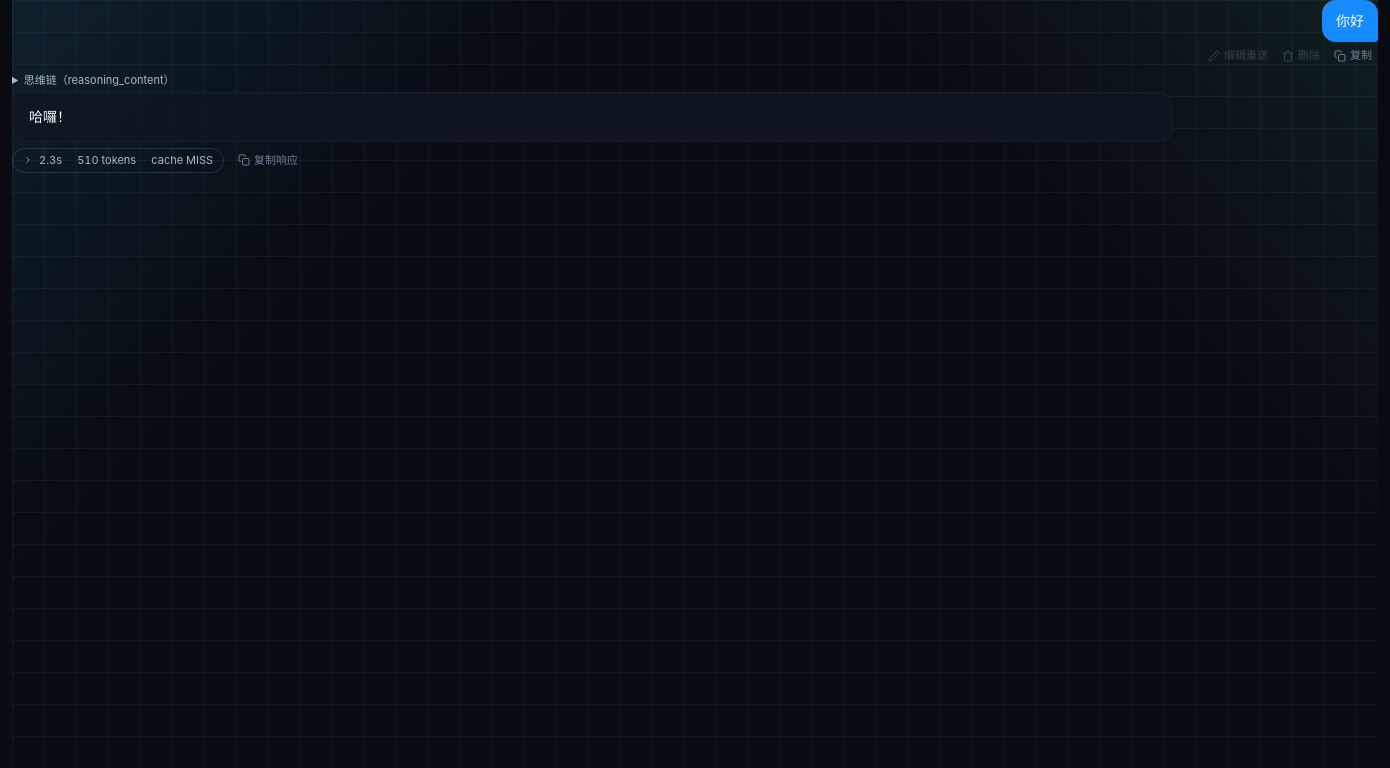
Test: MessageBubble（assistant debug 收起/展开） › cache MISS + prompt<1024 → 显示未达门槛提示
Expected: the text "cache MISS" is shown, [151,152,213,169]
What coordinates should you click on to do the following:
click the button with aria-label "debug"
I would click on:
 (118, 160)
Its box is [12,148,224,173].
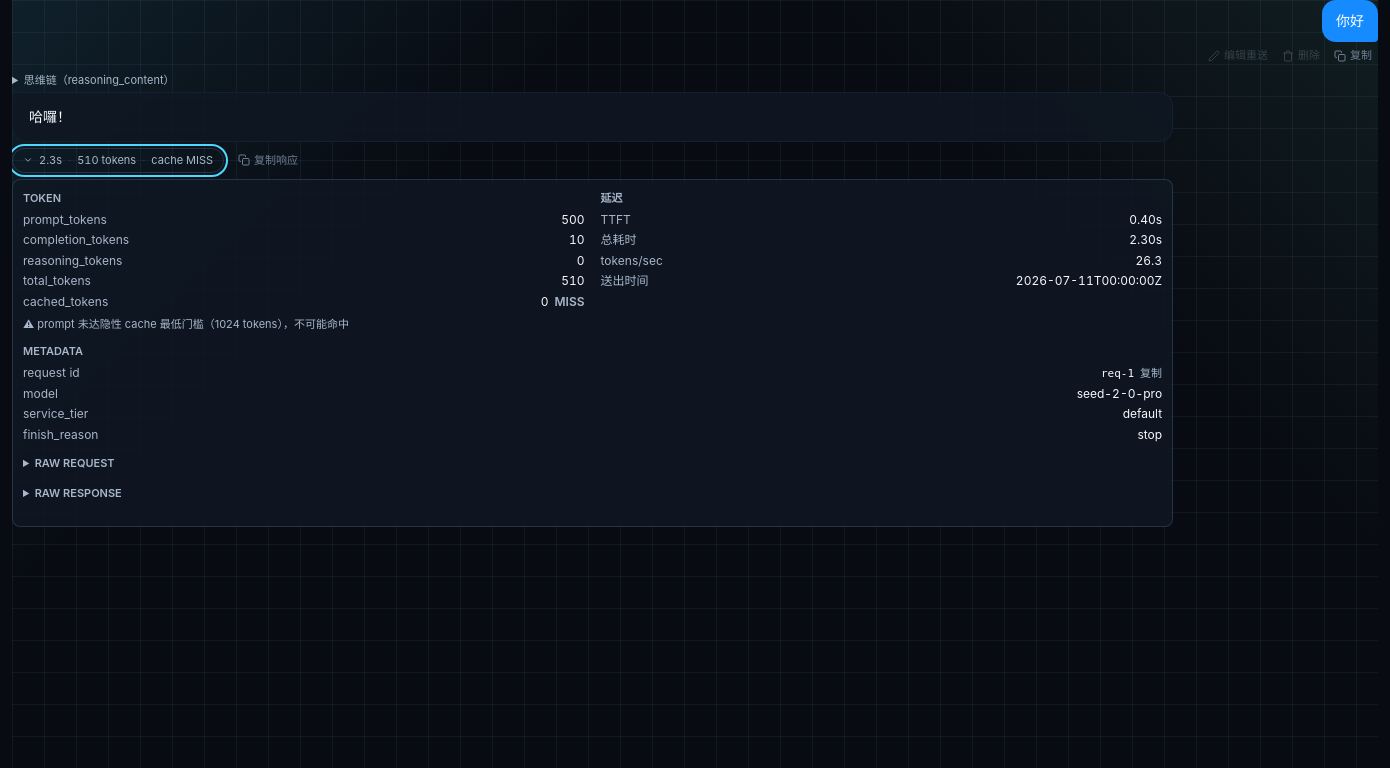
Expected: the text "⚠ prompt 未达隐性 cache 最低门槛（1024 tokens），不可能命中" is shown, [23,317,349,331]
